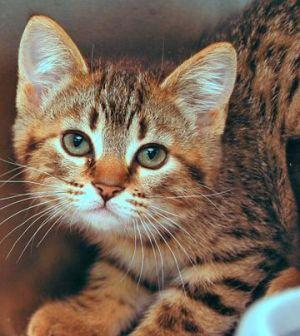bengal: (3, 6, 248, 251)
